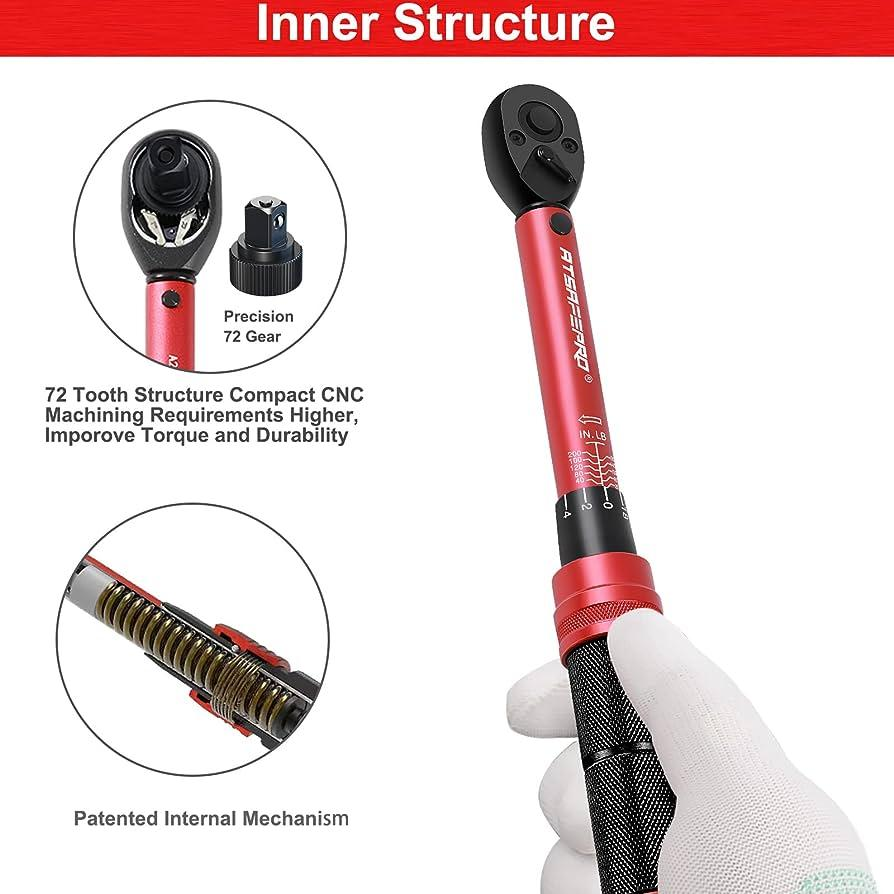Tool: (487, 77, 602, 217)
